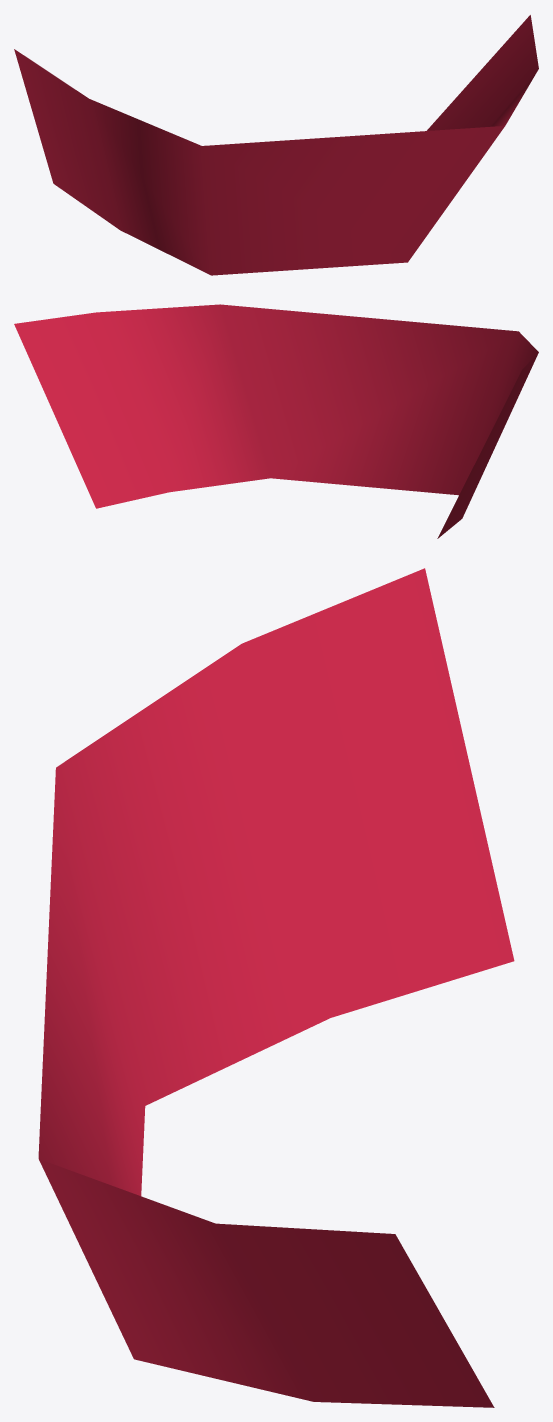
3 views of the same model, one above another, from view 1: azimuth 30°, elevation 25°; view 2: azimuth 150°, elevation 25°; view 3: azimuth 270°, elevation 25° (orthographic). The views are drawn at different scales.
Visible parts, largest first — view 1: ef_458; view 2: ef_458; view 3: ef_458.
Part boxes in pixels (x1=…): ef_458: x1=14, y1=15, x2=538, y2=275; ef_458: x1=14, y1=304, x2=538, y2=538; ef_458: x1=38, y1=568, x2=514, y2=1407.
Size of the model in its own units: 0.8668 by 0.3886 by 0.3508.
1 material, 1 textured.
